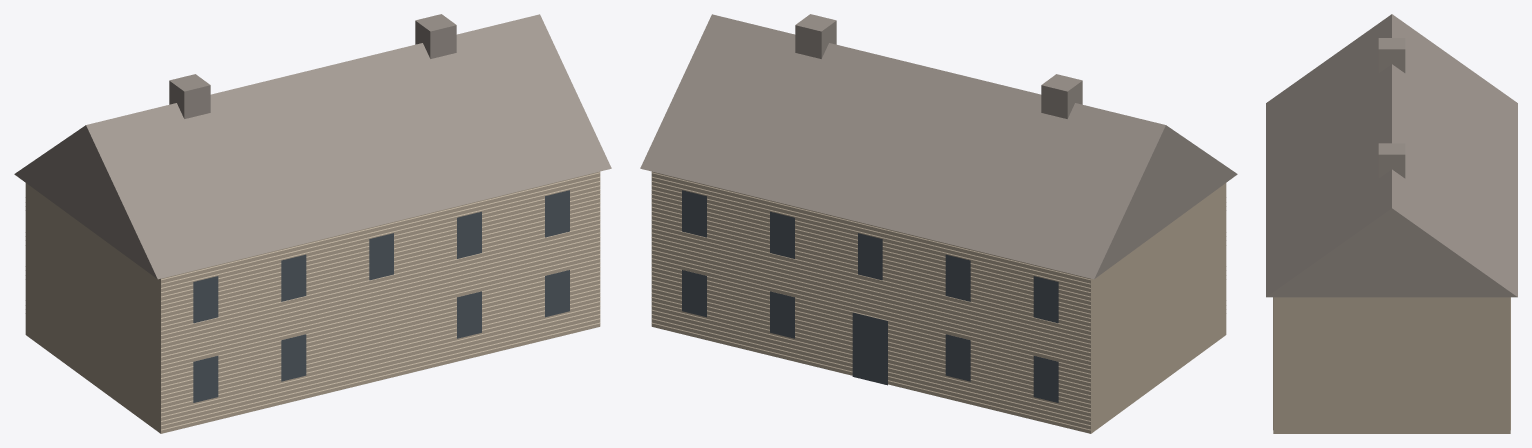
Rendered from steamboat_hotel__frame_1835.glb.
3 views of the same model, side by side, from view 1: azimuth 30°, elevation 25°; view 2: azimuth 150°, elevation 25°; view 3: azimuth 270°, elevation 25° (orthographic). The views are drawn at different scales.
Parts seen in each view (by area): view 1: steamboat_hotel__frame_1835; view 2: steamboat_hotel__frame_1835; view 3: steamboat_hotel__frame_1835.
Boxes of the visible parts, x1,y1,x2,y2 form: steamboat_hotel__frame_1835: (14,14,611,433); steamboat_hotel__frame_1835: (640,14,1237,433); steamboat_hotel__frame_1835: (1266,14,1517,433).
Bounding box in the file's own units: 15.5 × 9.07 × 8.5.
